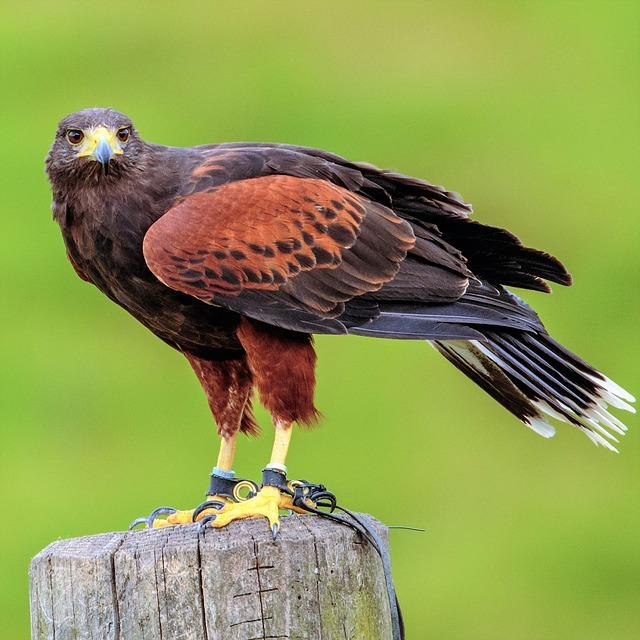Carnivorous: (45, 108, 638, 530)
